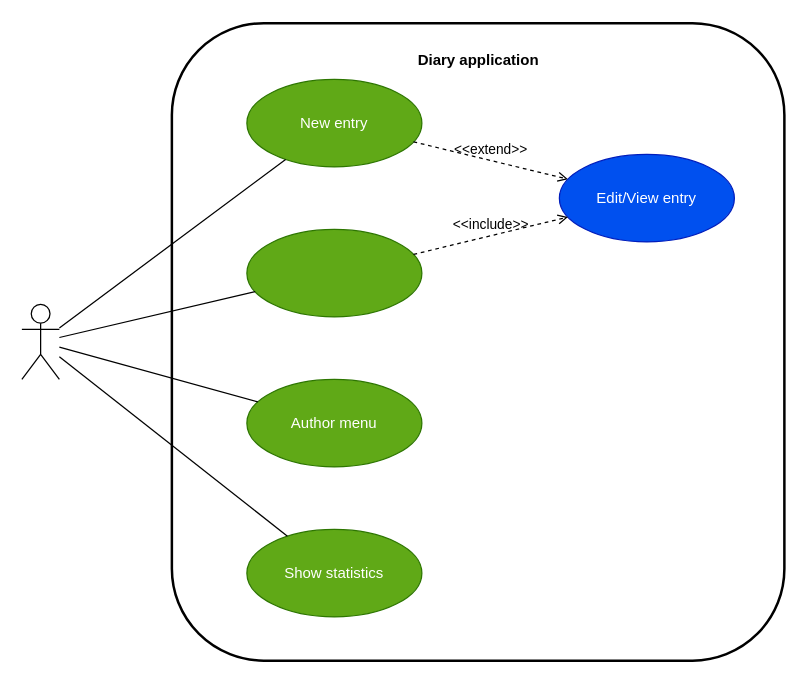
This 808x683 diagram has some shape labels left out. Each missing label, with the centre of its shape:
"Actor" goes at point (40, 341).
"Search entries" goes at point (334, 272).
